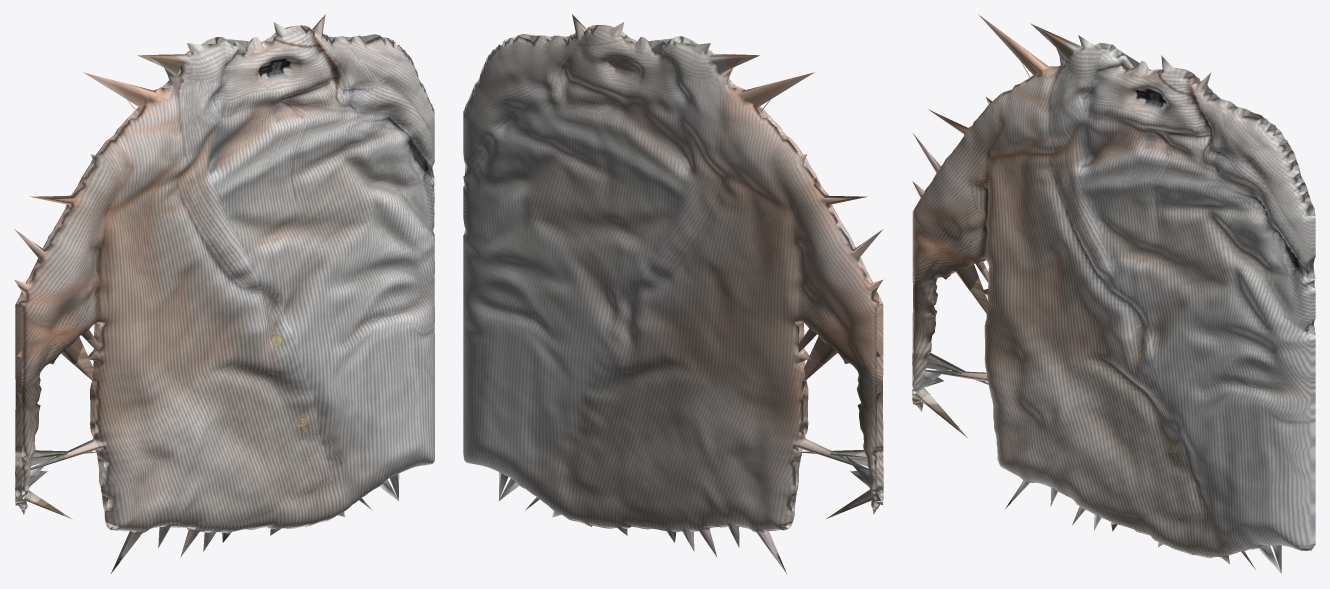
File: striped-button-down.glb
3 renders of one model, left to right at view 1: azimuth 30°, elevation 25°; view 2: azimuth 150°, elevation 25°; view 3: azimuth 330°, elevation 25°, orthographic. The views are drawn at different scales.
Parts seen in each view (by area): view 1: striped-button-down; view 2: striped-button-down; view 3: striped-button-down.
Boxes of the visible parts, x1,y1,x2,y2 form: striped-button-down: (14,14,434,573); striped-button-down: (463,14,883,573); striped-button-down: (912,14,1315,573).
Bounding box in the file's own units: 0.668 × 0.7792 × 0.0739.
Materials: 1 (1 with a texture image).
